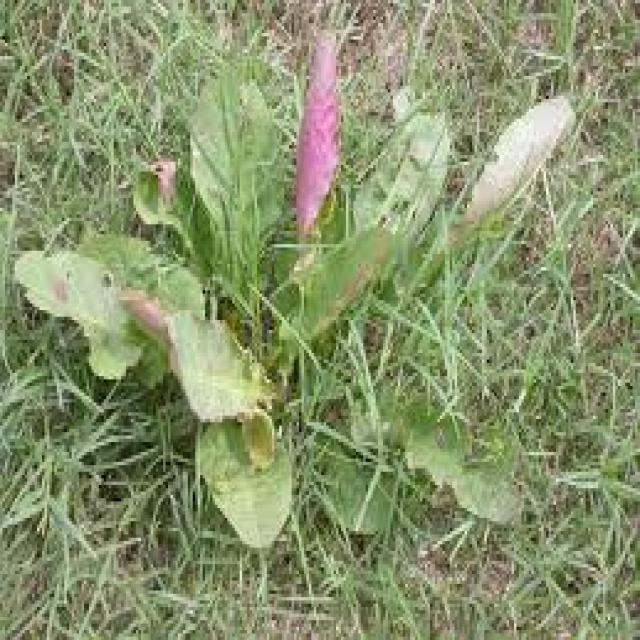organic waste: (35, 30, 578, 538)
